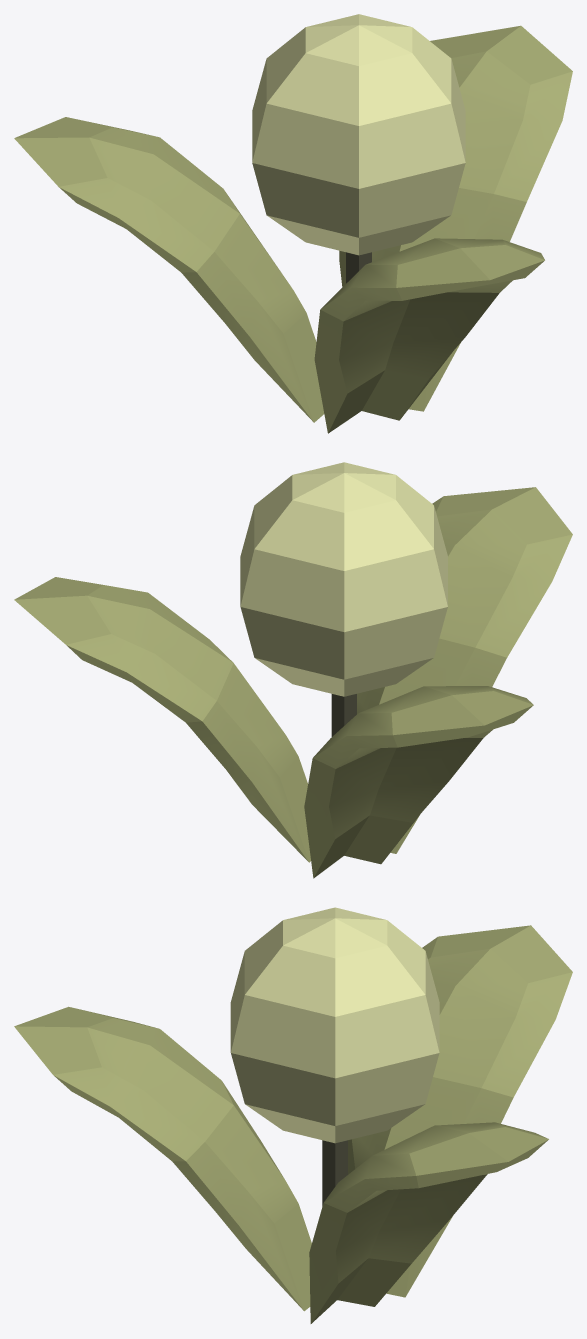
File: Bloem1.fbx
3 views of the same model, one above another, from view 1: azimuth 30°, elevation 25°; view 2: azimuth 150°, elevation 25°; view 3: azimuth 270°, elevation 25° (orthographic). The views are drawn at different scales.
Parts seen in each view (by area): view 1: KleinBloempje; view 2: KleinBloempje; view 3: KleinBloempje.
Boxes of the visible parts, left/top/right/bottom form: KleinBloempje: left=14, top=14, right=572, bottom=433; KleinBloempje: left=14, top=462, right=572, bottom=878; KleinBloempje: left=14, top=907, right=572, bottom=1323.
Size of the model in its own units: 0.0383 by 0.0283 by 0.0377.
